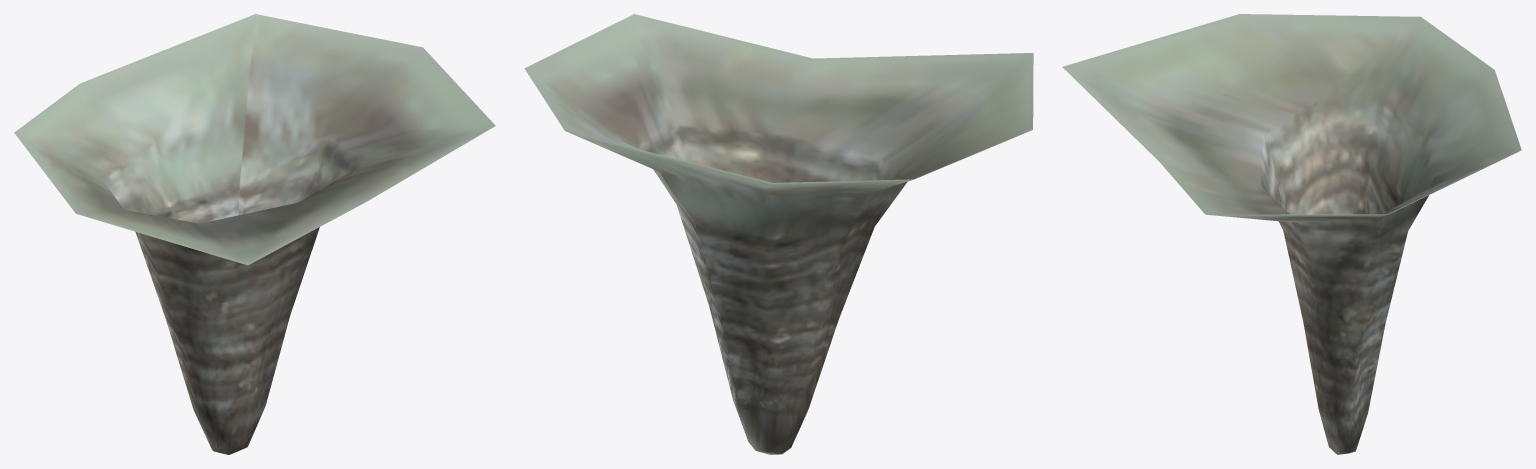
Rendered from TROLLHOLE02_PS-MAINSTALAG43.fbx.
3 renders of one model, left to right at view 1: azimuth 30°, elevation 25°; view 2: azimuth 150°, elevation 25°; view 3: azimuth 270°, elevation 25°, orthographic. The views are drawn at different scales.
Parts seen in each view (by area): view 1: TROLLHOLE02_PS-MAINSTALAG43; view 2: TROLLHOLE02_PS-MAINSTALAG43; view 3: TROLLHOLE02_PS-MAINSTALAG43.
Part boxes in pixels (x1=…): TROLLHOLE02_PS-MAINSTALAG43: x1=14, y1=14, x2=495, y2=454; TROLLHOLE02_PS-MAINSTALAG43: x1=524, y1=14, x2=1033, y2=454; TROLLHOLE02_PS-MAINSTALAG43: x1=1062, y1=14, x2=1521, y2=454.
Size of the model in its own units: 15608 by 12428 by 14378.
1 material, 1 textured.
